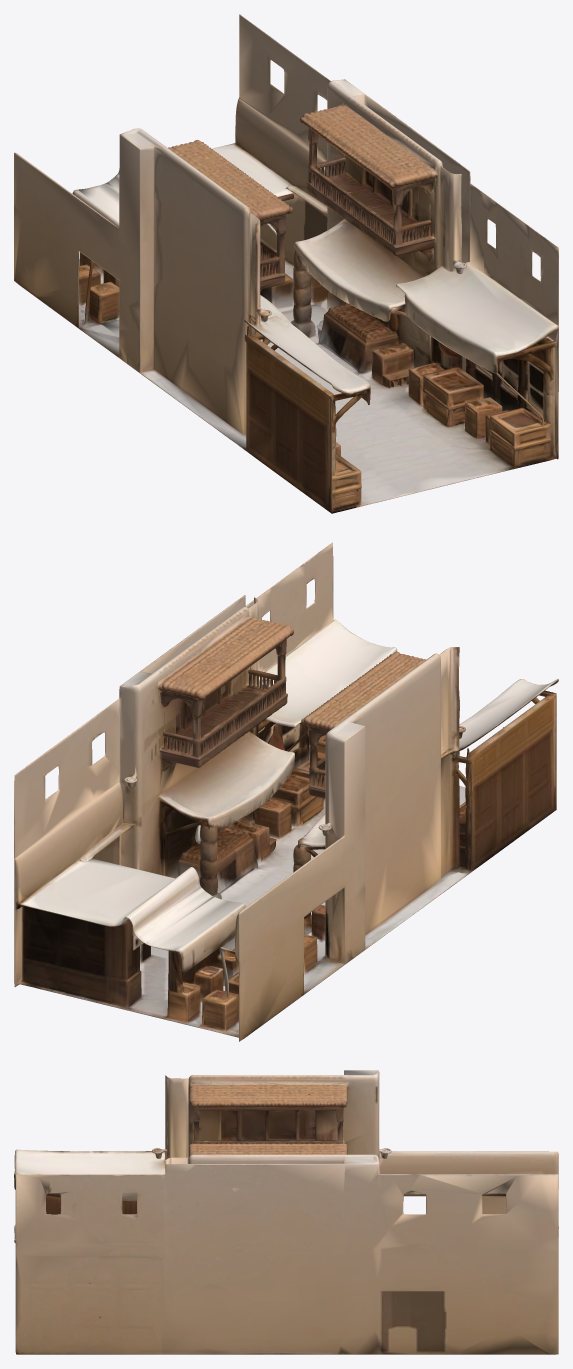
Rendered from market-visual-m.glb.
3 renders of one model, top to bottom at view 1: azimuth 30°, elevation 25°; view 2: azimuth 150°, elevation 25°; view 3: azimuth 270°, elevation 25°, orthographic. The views are drawn at different scales.
Visible parts, largest first — view 1: node_0; view 2: node_0; view 3: node_0.
Part boxes in pixels (bbox=[...]): node_0: bbox=[14, 14, 558, 513]; node_0: bbox=[14, 542, 558, 1041]; node_0: bbox=[14, 1070, 558, 1354].
Bounding box in the file's own units: 0.4281 × 0.4106 × 1.05.
Materials: 1 (1 with a texture image).
